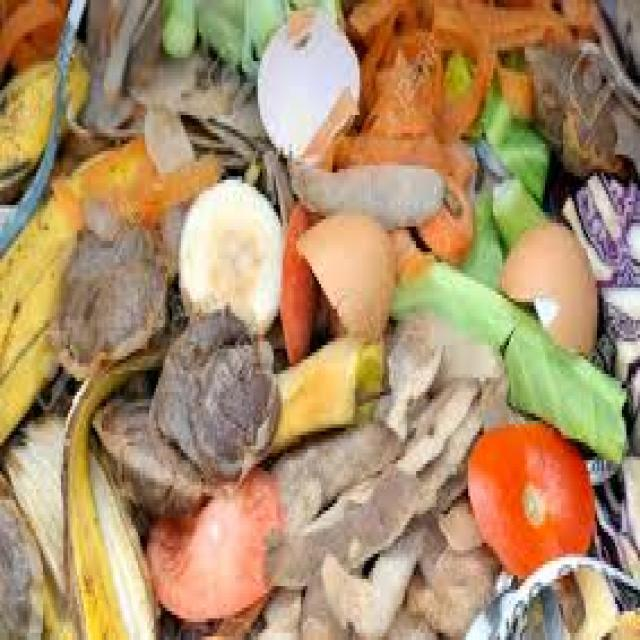Wet: (0, 26, 297, 640), (264, 402, 524, 640), (450, 388, 610, 596), (56, 182, 176, 404), (162, 162, 306, 332), (241, 0, 384, 166), (503, 191, 611, 372), (292, 210, 412, 357), (527, 36, 640, 182)
